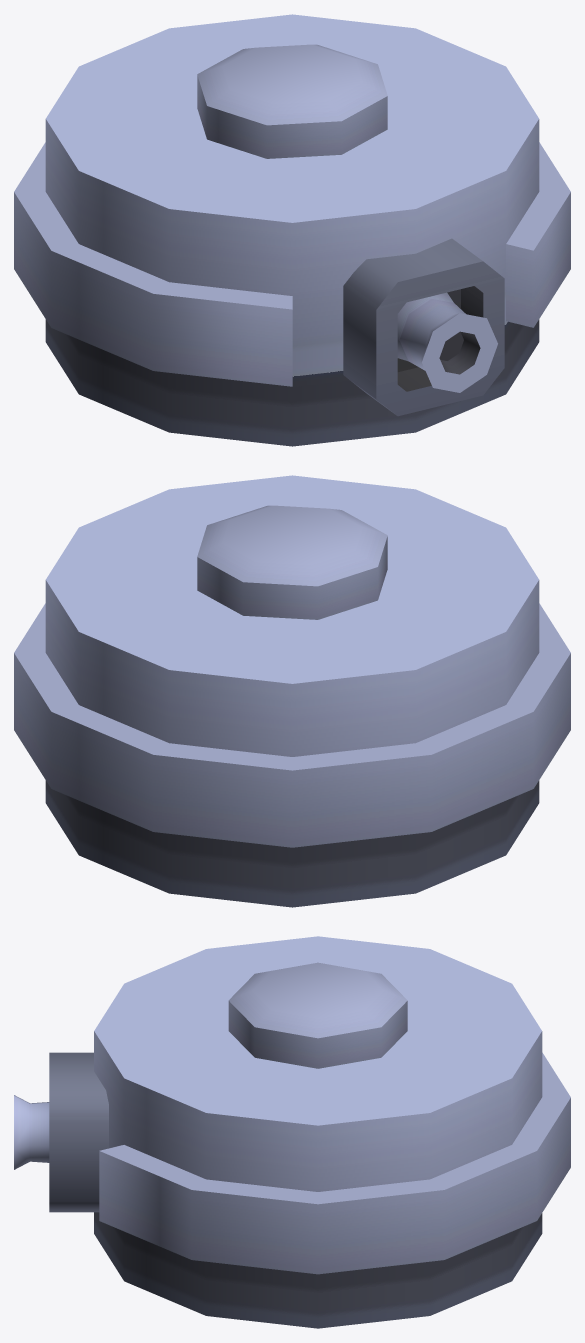
The model's file is kenney-tower-defense-tower-round-middle-b.glb.
The picture shows the model from 3 angles, top to bottom: view 1: azimuth 30°, elevation 25°; view 2: azimuth 150°, elevation 25°; view 3: azimuth 270°, elevation 25°; orthographic projection. The views are drawn at different scales.
Parts seen in each view (by area): view 1: tower-round-middle-b; view 2: tower-round-middle-b; view 3: tower-round-middle-b.
Boxes of the visible parts, bbox=[...] form: tower-round-middle-b: bbox=[14, 14, 570, 446]; tower-round-middle-b: bbox=[14, 475, 570, 907]; tower-round-middle-b: bbox=[14, 936, 570, 1328].
Bounding box in the file's own units: 1.13 × 0.6 × 1.24.
Materials: 1 (1 with a texture image).
